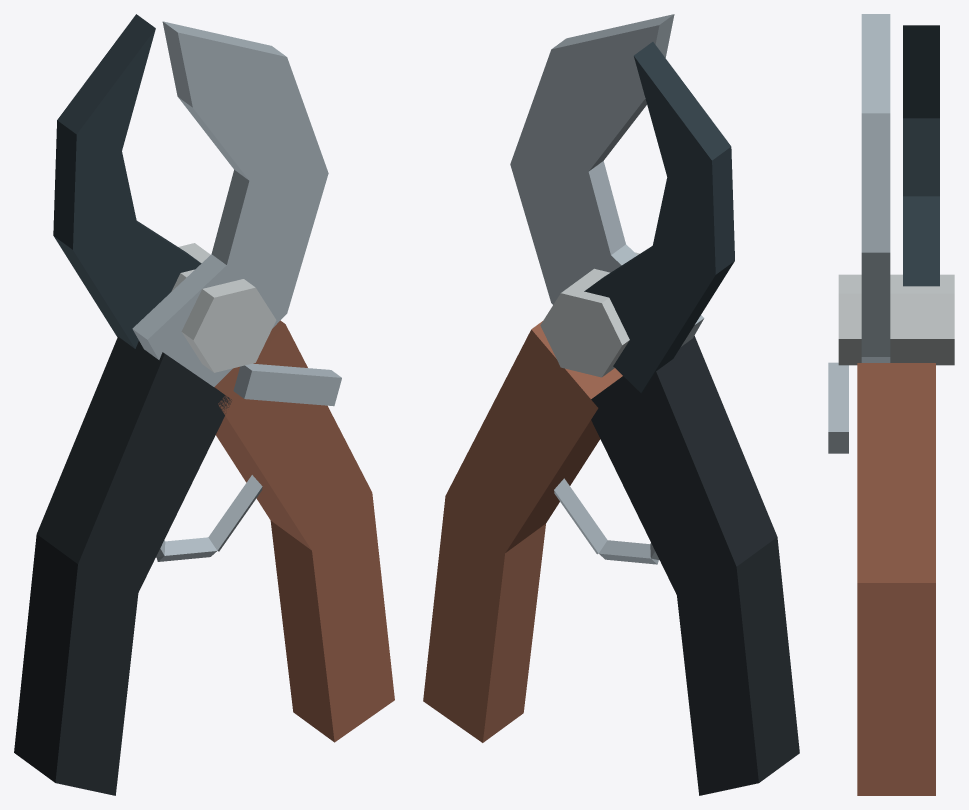
The model's file is b06_pruning_secateurs.glb.
3 renders of one model, left to right at view 1: azimuth 30°, elevation 25°; view 2: azimuth 150°, elevation 25°; view 3: azimuth 270°, elevation 25°, orthographic. The views are drawn at different scales.
Parts seen in each view (by area): view 1: b06_pruning_secateurs; view 2: b06_pruning_secateurs; view 3: b06_pruning_secateurs.
Boxes of the visible parts, left/top/right/bottom form: b06_pruning_secateurs: left=14, top=14, right=394, bottom=795; b06_pruning_secateurs: left=423, top=14, right=799, bottom=795; b06_pruning_secateurs: left=828, top=14, right=954, bottom=795.
Bounding box in the file's own units: 0.09 × 0.189 × 0.0305.
